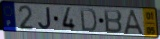2: (17, 5, 35, 31)
4: (61, 6, 77, 33)
A: (123, 8, 147, 36)
B: (103, 8, 124, 34)
D: (79, 7, 98, 33)
J: (37, 7, 53, 31)
